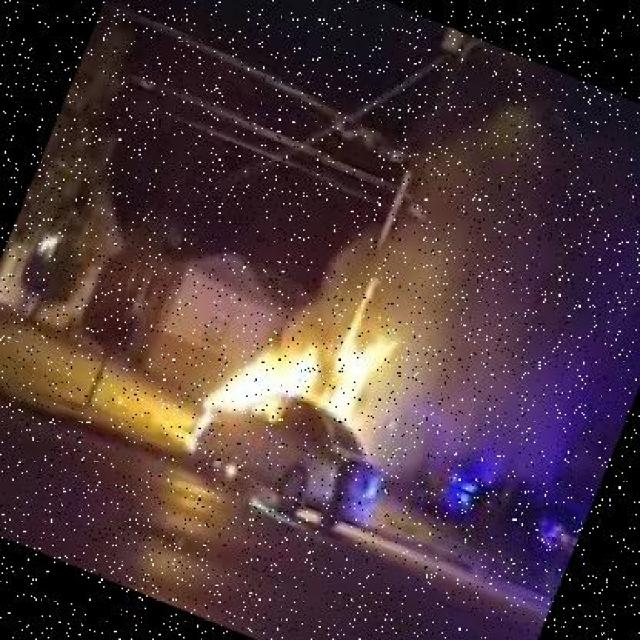fire: (174, 270, 406, 524)
